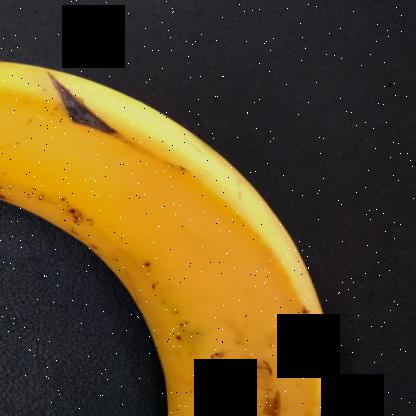ripe: (1, 48, 389, 415)
